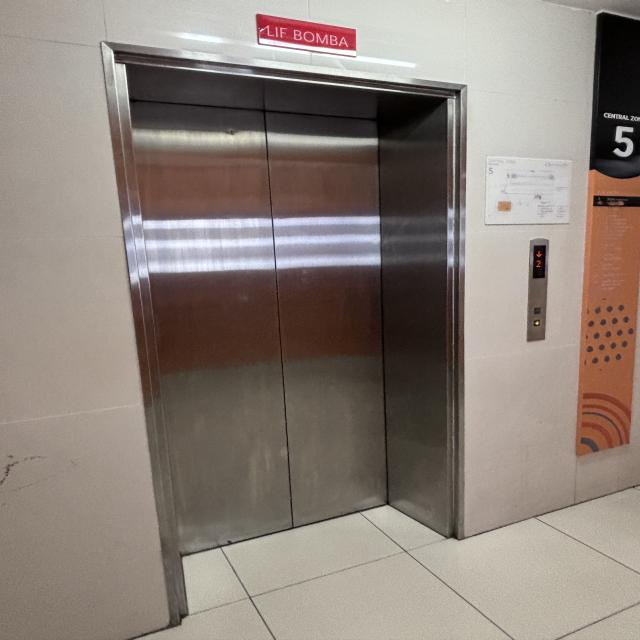elevator: (82, 7, 578, 625)
